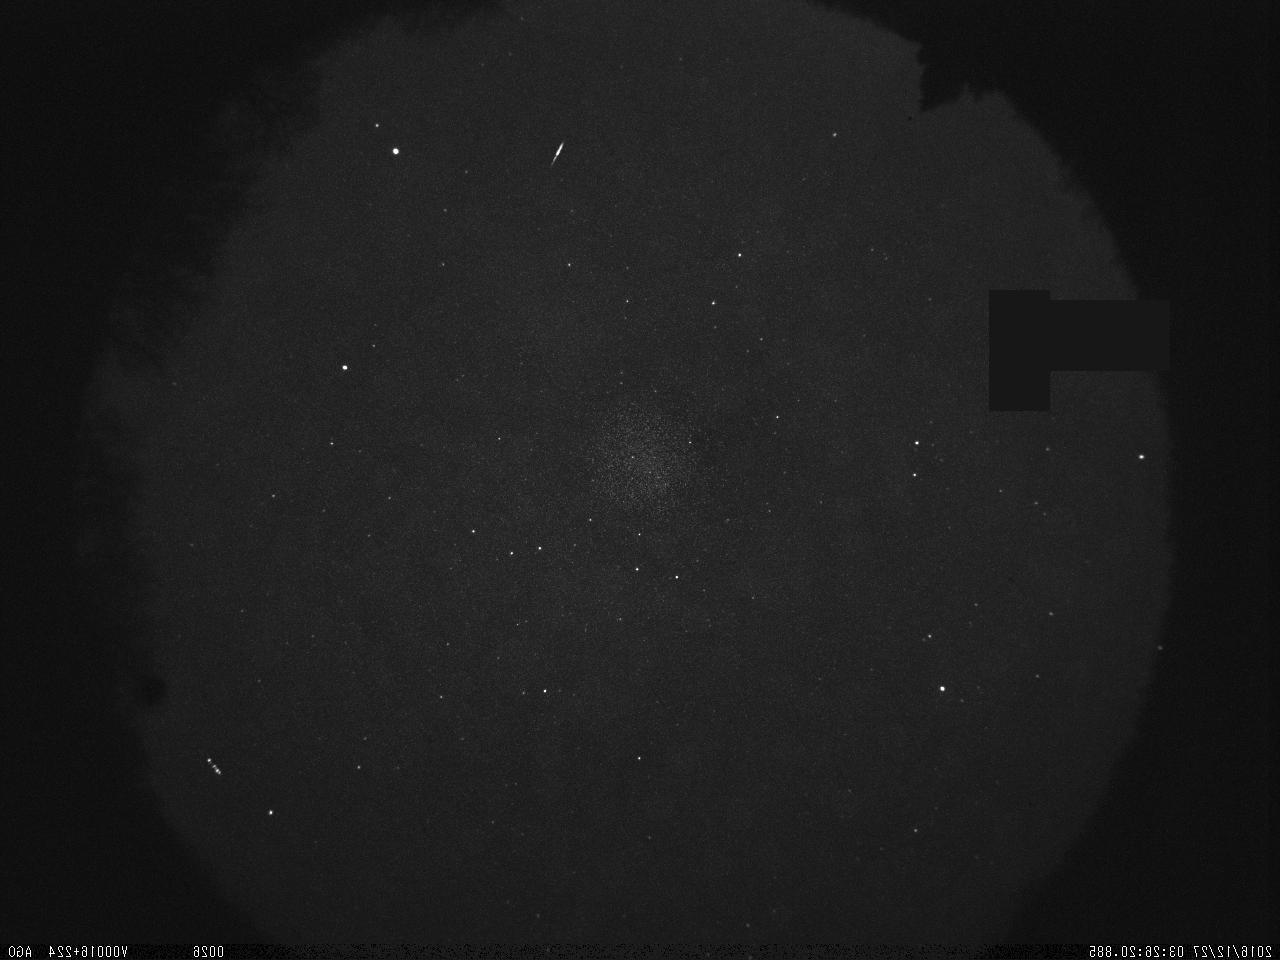meteor: (536, 140, 570, 175)
